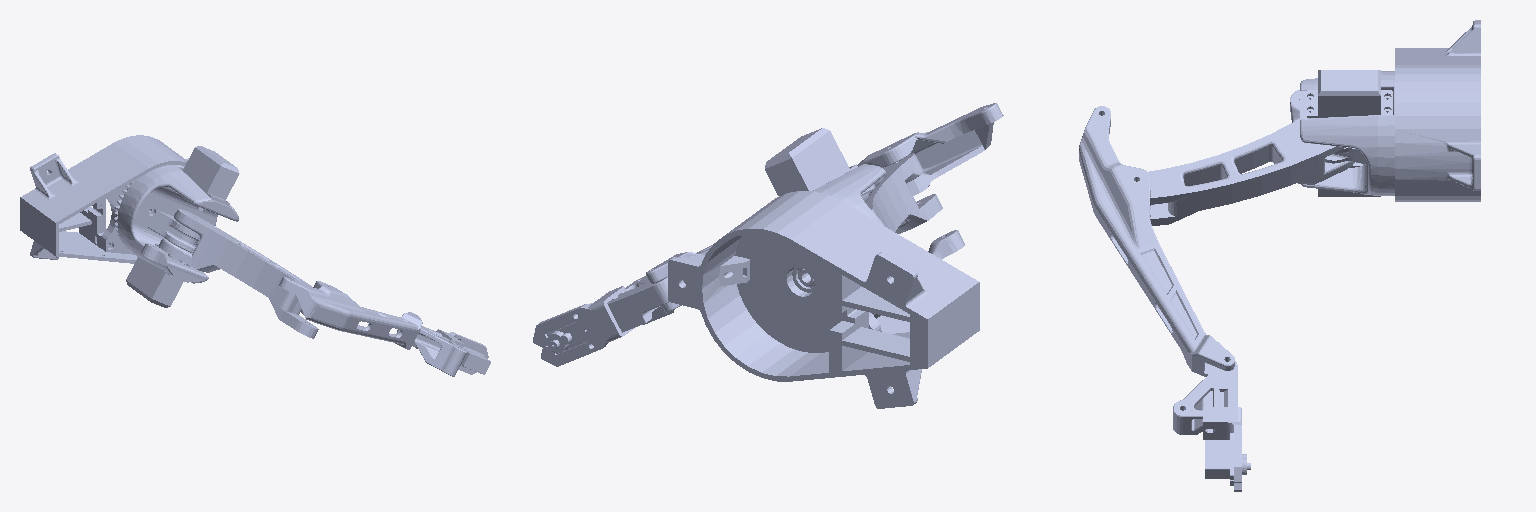
robot.urdf — arm_urdf:
<robot
  name="arm_urdf">
  <link
    name="arm_base_link">
    <inertial>
      <origin
        xyz="-0.16855 -0.0058608 0.037671"
        rpy="0 0 0" />
      <mass
        value="0.13458" />
      <inertia
        ixx="0.00011214"
        ixy="-1.0129E-11"
        ixz="-2.332E-05"
        iyy="0.00027972"
        iyz="-7.51E-13"
        izz="0.0003304" />
    </inertial>
    <visual>
      <origin
        xyz="0 0 0"
        rpy="0 0 0" />
      <geometry>
        <mesh
          filename="package://arm_urdf/meshes/arm_base_link.STL" />
      </geometry>
      <material
        name="">
        <color
          rgba="0.79216 0.81961 0.93333 1" />
      </material>
    </visual>
    <collision>
      <origin
        xyz="0 0 0"
        rpy="0 0 0" />
      <geometry>
        <mesh
          filename="package://arm_urdf/meshes/arm_base_link.STL" />
      </geometry>
    </collision>
  </link>
  <link
    name="arm1_link">
    <inertial>
      <origin
        xyz="-0.000423191432921965 -0.0318329464937488 -0.000703223856107868"
        rpy="0 0 0" />
      <mass
        value="0.234520260992863" />
      <inertia
        ixx="0.000269396906833407"
        ixy="-5.5132769669096E-06"
        ixz="-2.87111345267427E-06"
        iyy="0.000257097646329953"
        iyz="-4.63170245263102E-06"
        izz="0.00014670971430474" />
    </inertial>
    <visual>
      <origin
        xyz="0 0 0"
        rpy="0 0 0" />
      <geometry>
        <mesh
          filename="package://arm_urdf/meshes/arm1_link.STL" />
      </geometry>
      <material
        name="">
        <color
          rgba="0.792156862745098 0.819607843137255 0.933333333333333 1" />
      </material>
    </visual>
    <collision>
      <origin
        xyz="0 0 0"
        rpy="0 0 0" />
      <geometry>
        <mesh
          filename="package://arm_urdf/meshes/arm1_link.STL" />
      </geometry>
    </collision>
  </link>
  <joint
    name="arm1"
    type="continuous">
    <origin
      xyz="-0.14449 -0.05107 -0.0058608"
      rpy="3.001E-17 0.55498 1.5813E-17" />
    <parent
      link="arm_base_link" />
    <child
      link="arm1_link" />
    <axis
      xyz="0 -1 0" />
  </joint>
  <link
    name="arm2_link">
    <inertial>
      <origin
        xyz="-0.00309552797834803 0.00255151599536871 0.0617609634901038"
        rpy="0 0 0" />
      <mass
        value="0.0716573206868348" />
      <inertia
        ixx="0.000154692346402902"
        ixy="-3.28537254313819E-07"
        ixz="1.16852032951924E-06"
        iyy="0.000152982791489053"
        iyz="8.14178824656653E-07"
        izz="1.22734974103118E-05" />
    </inertial>
    <visual>
      <origin
        xyz="0 0 0"
        rpy="0 0 0" />
      <geometry>
        <mesh
          filename="package://arm_urdf/meshes/arm2_link.STL" />
      </geometry>
      <material
        name="">
        <color
          rgba="0.792156862745098 0.819607843137255 0.933333333333333 1" />
      </material>
    </visual>
    <collision>
      <origin
        xyz="0 0 0"
        rpy="0 0 0" />
      <geometry>
        <mesh
          filename="package://arm_urdf/meshes/arm2_link.STL" />
      </geometry>
    </collision>
  </link>
  <joint
    name="arm2"
    type="continuous">
    <origin
      xyz="0 -0.05 0"
      rpy="-1.5708 1.2953E-12 -2.7751" />
    <parent
      link="arm1_link" />
    <child
      link="arm2_link" />
    <axis
      xyz="0 -1 0" />
  </joint>
  <link
    name="arm3_link">
    <inertial>
      <origin
        xyz="0.0370836751338463 0.00570190398420431 0.0124352532922033"
        rpy="0 0 0" />
      <mass
        value="0.0389711827621148" />
      <inertia
        ixx="5.55038245577412E-06"
        ixy="4.43092866697665E-06"
        ixz="6.18968447574307E-07"
        iyy="0.000139442033298954"
        iyz="4.69039163507076E-07"
        izz="0.000139160279008574" />
    </inertial>
    <visual>
      <origin
        xyz="0 0 0"
        rpy="0 0 0" />
      <geometry>
        <mesh
          filename="package://arm_urdf/meshes/arm3_link.STL" />
      </geometry>
      <material
        name="">
        <color
          rgba="0.792156862745098 0.819607843137255 0.933333333333333 1" />
      </material>
    </visual>
    <collision>
      <origin
        xyz="0 0 0"
        rpy="0 0 0" />
      <geometry>
        <mesh
          filename="package://arm_urdf/meshes/arm3_link.STL" />
      </geometry>
    </collision>
  </link>
  <joint
    name="arm3"
    type="continuous">
    <origin
      xyz="0.0014334 0 0.13873"
      rpy="1.9443E-16 0.037927 3.1416" />
    <parent
      link="arm2_link" />
    <child
      link="arm3_link" />
    <axis
      xyz="0 1 0" />
  </joint>
  <link
    name="arm4_link">
    <inertial>
      <origin
        xyz="-0.00886353913653416 -0.00155279293583271 0.011236139041045"
        rpy="0 0 0" />
      <mass
        value="0.0302993041353143" />
      <inertia
        ixx="1.83445787798965E-05"
        ixy="-1.34960408624412E-07"
        ixz="3.3684198176223E-07"
        iyy="4.7625588104648E-06"
        iyz="-2.00346882883596E-06"
        izz="1.56384130784314E-05" />
    </inertial>
    <visual>
      <origin
        xyz="0 0 0"
        rpy="0 0 0" />
      <geometry>
        <mesh
          filename="package://arm_urdf/meshes/arm4_link.STL" />
      </geometry>
      <material
        name="">
        <color
          rgba="0.792156862745098 0.819607843137255 0.933333333333333 1" />
      </material>
    </visual>
    <collision>
      <origin
        xyz="0 0 0"
        rpy="0 0 0" />
      <geometry>
        <mesh
          filename="package://arm_urdf/meshes/arm4_link.STL" />
      </geometry>
    </collision>
  </link>
  <joint
    name="arm4"
    type="continuous">
    <origin
      xyz="0.18569 0.0095 0.0094951"
      rpy="-0.4046 3.0526E-16 1.5708" />
    <parent
      link="arm3_link" />
    <child
      link="arm4_link" />
    <axis
      xyz="0 0 0" />
  </joint>
</robot>

--- Render facts (derived) ---
Views: 3 orthographic renders of the robot side by side, from view 1: azimuth 30°, elevation 25°; view 2: azimuth 150°, elevation 25°; view 3: azimuth 270°, elevation 25°.
Robot: arm_urdf — 5 links, 4 joints (4 continuous); root link arm_base_link; default pose: every joint at zero.
Visible links, largest first — view 1: arm_base_link, arm1_link, arm2_link, arm3_link, arm4_link; view 2: arm_base_link, arm1_link, arm4_link, arm3_link, arm2_link; view 3: arm_base_link, arm3_link, arm1_link, arm2_link, arm4_link.
Boxes of the visible links, box(x1,y1,x2,y2) form: arm_base_link: box(20, 135, 188, 263); arm1_link: box(114, 146, 239, 307); arm2_link: box(159, 209, 318, 338); arm3_link: box(279, 277, 422, 349); arm4_link: box(397, 326, 490, 376); arm_base_link: box(668, 191, 979, 408); arm1_link: box(765, 128, 964, 333); arm4_link: box(533, 276, 673, 366); arm3_link: box(646, 103, 1003, 312); arm2_link: box(861, 153, 942, 233); arm_base_link: box(1395, 20, 1480, 201); arm3_link: box(1079, 106, 1234, 376); arm1_link: box(1290, 70, 1394, 196); arm2_link: box(1148, 119, 1354, 225); arm4_link: box(1173, 361, 1250, 491).
Bounding box of the posed robot: 0.3315 × 0.2571 × 0.2058 m (x, y, z).
5 mesh visuals loaded from 5 distinct referenced files (5 binary STL).